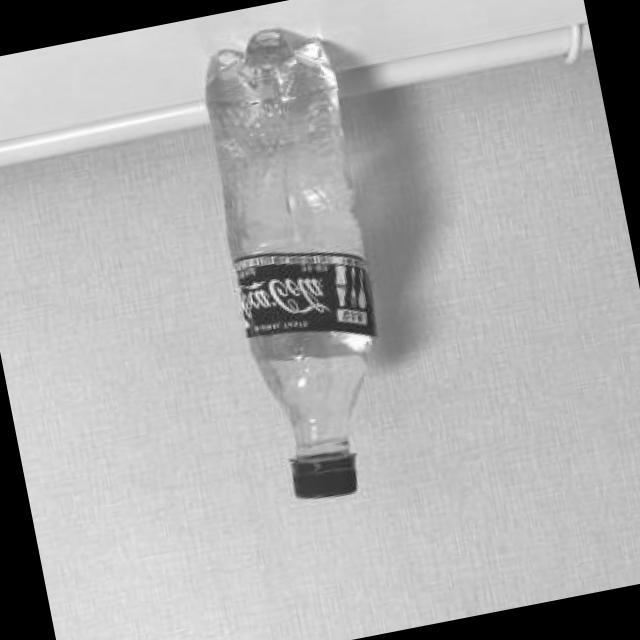defected: (172, 0, 439, 523)
